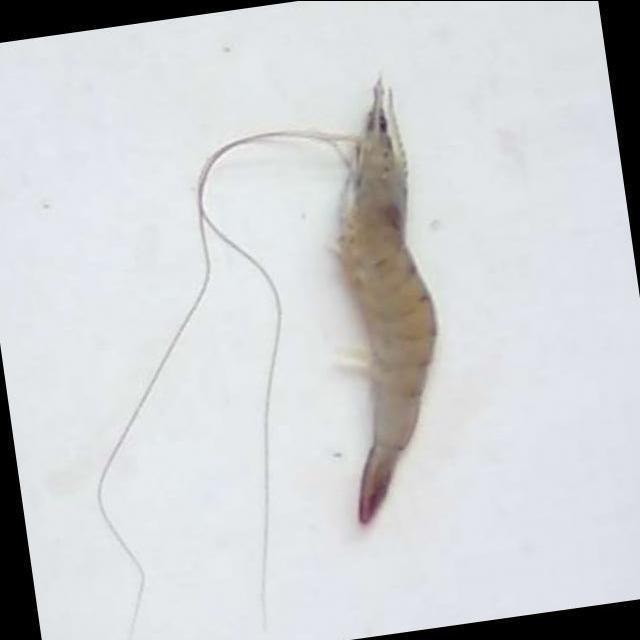shrimp: (340, 79, 438, 525)
